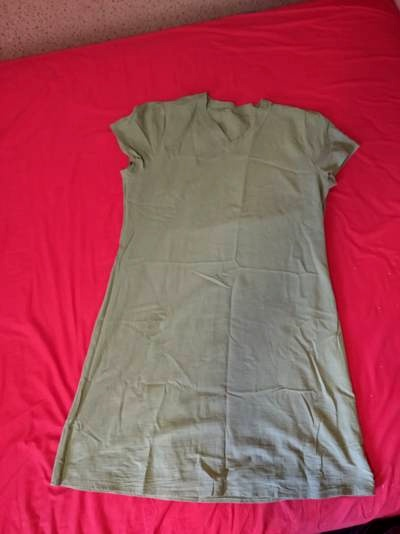Dress: (67, 69, 390, 518)
